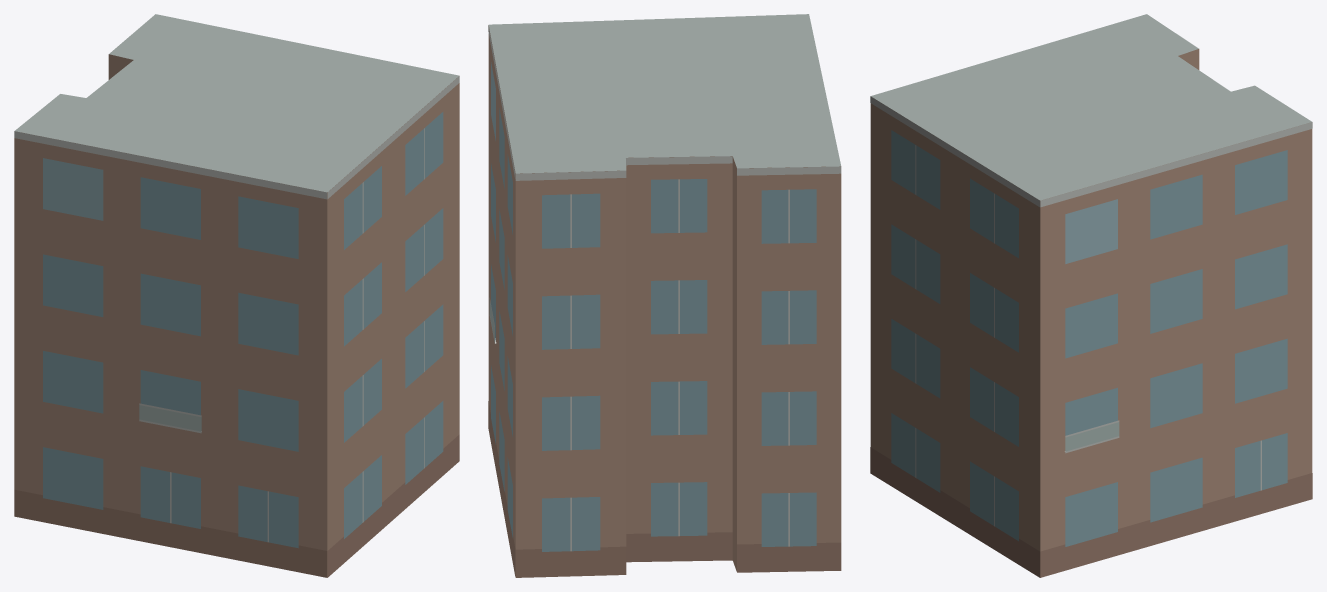
Rendered from survey-upis-32913919.glb.
The picture shows the model from 3 angles, left to right: view 1: azimuth 30°, elevation 25°; view 2: azimuth 150°, elevation 25°; view 3: azimuth 270°, elevation 25°; orthographic projection. The views are drawn at different scales.
Visible parts, largest first — view 1: survey-upis-32913919.tmp; view 2: survey-upis-32913919.tmp; view 3: survey-upis-32913919.tmp.
Part boxes in pixels (x1,y1,x2,y2): survey-upis-32913919.tmp: [14, 14, 459, 577]; survey-upis-32913919.tmp: [488, 14, 841, 577]; survey-upis-32913919.tmp: [870, 14, 1312, 577].
Bounding box in the file's own units: 14.23 × 13.4 × 14.24.
